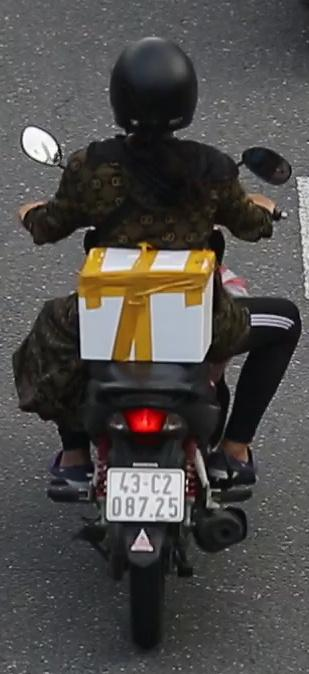LP: (104, 465, 188, 528)
helmet: (106, 32, 204, 141)
